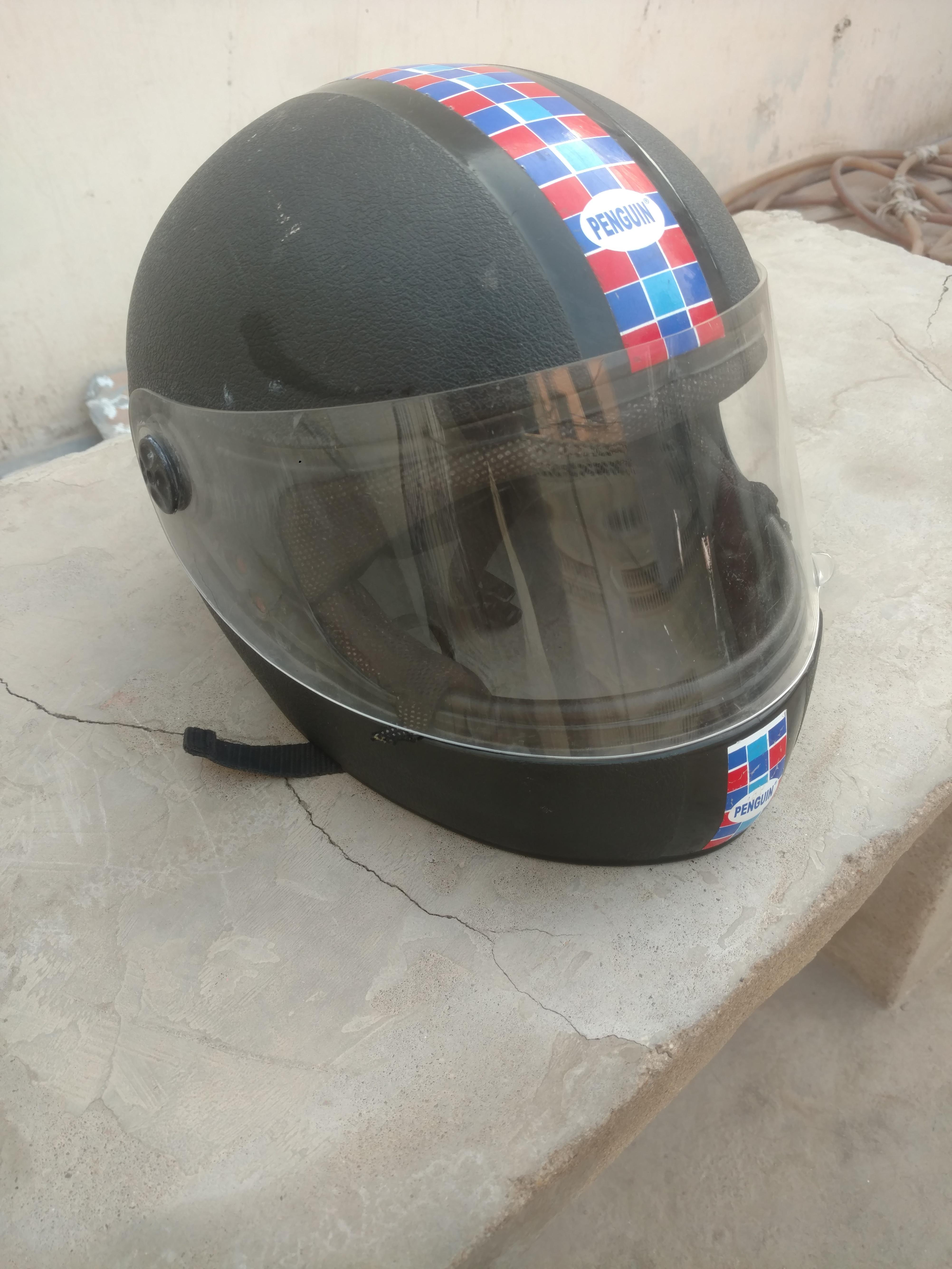helmet: (109, 26, 848, 895)
